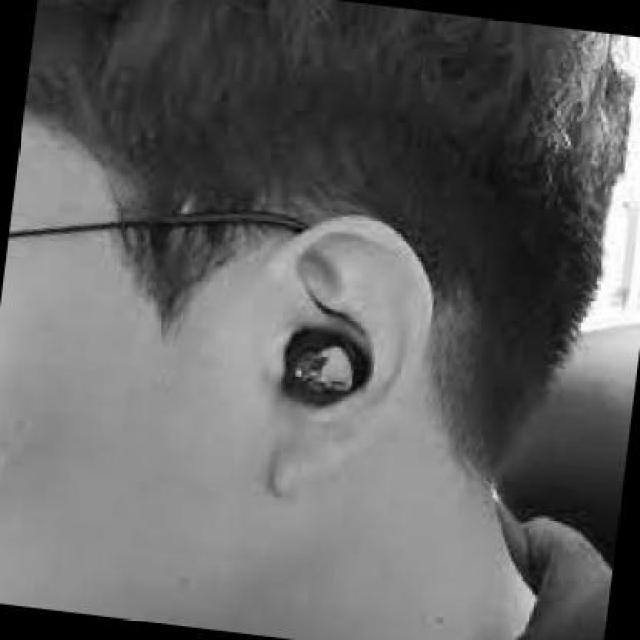earphone: (272, 316, 373, 407)
